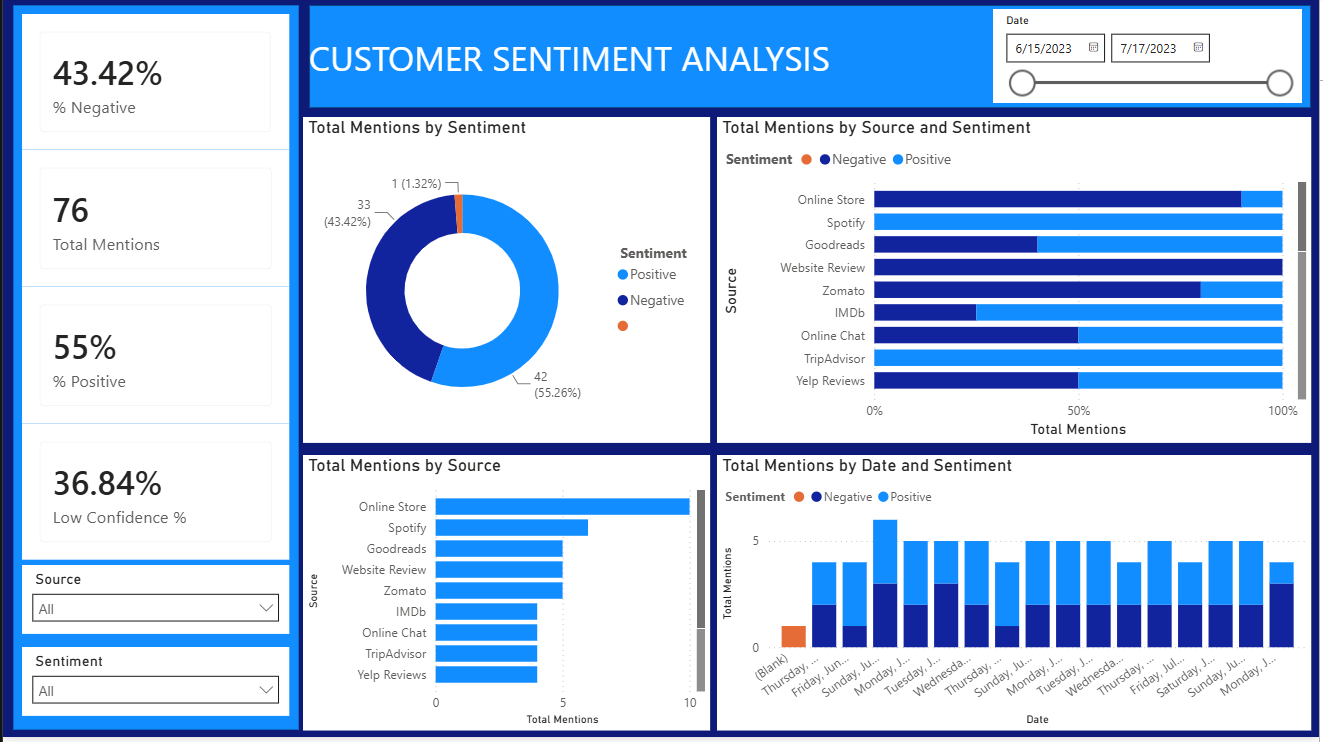

Layout of this report page (visuals, bound fields, positions):
{"tool":"powerbi","page":{"name":"Page 1","canvas":[1280,720],"ordinal":0},"visuals":[{"type":"shape","box":[9.7,7.8,278.2,705.2],"z":0},{"type":"shape","title":"CUSTOMER SENTIMENT ANALYSIS","box":[297.6,7.8,974.6,100.2],"z":1},{"type":"cardVisual","fields":{"Data":["measure.% Negative"]},"box":[18.5,16.5,259.7,132.3],"z":2},{"type":"cardVisual","fields":{"Data":["measure.Total Mentions"]},"box":[18,149,260,133],"z":3},{"type":"cardVisual","fields":{"Data":["measure.% Positive"]},"box":[18,282,260,133],"z":4},{"type":"cardVisual","fields":{"Data":["measure.Low Confidence %"]},"box":[18,415,260,132],"z":5},{"type":"donutChart","fields":{"Category":["sentiment-analysis. Sentiment"],"Y":["measure.Total Mentions"]},"box":[292,117,396,317],"z":6},{"type":"hundredPercentStackedBarChart","fields":{"Category":["sentiment-analysis. Source"],"Y":["measure.Total Mentions"],"Series":["sentiment-analysis. Sentiment"]},"box":[694,117,578,317],"z":7},{"type":"columnChart","fields":{"Y":["measure.Total Mentions"],"Series":["sentiment-analysis. Sentiment"],"Category":["sentiment-analysis.Date"]},"box":[694,445,578,268],"z":8},{"type":"clusteredBarChart","fields":{"Category":["sentiment-analysis. Source"],"Y":["measure.Total Mentions"]},"box":[292,445,396,268],"z":9},{"type":"slicer","fields":{"Values":["sentiment-analysis.Date"]},"box":[963,12,300,91],"z":10},{"type":"slicer","fields":{"Values":["sentiment-analysis. Source"]},"box":[18,552,260,67],"z":11},{"type":"slicer","fields":{"Values":["sentiment-analysis. Sentiment"]},"box":[18,632,260,67],"z":12}]}

Visuals, with their boxes in screenshot pixels (x1, y1, x2, y2), scaled from the page's 1280x720 canvas onto the 1323x742 screenshot:
shape: box(10, 8, 298, 735)
"CUSTOMER SENTIMENT ANALYSIS" shape: box(308, 8, 1315, 111)
cardVisual - measure.% Negative: box(19, 17, 288, 153)
cardVisual - measure.Total Mentions: box(19, 154, 287, 291)
cardVisual - measure.% Positive: box(19, 291, 287, 428)
cardVisual - measure.Low Confidence %: box(19, 428, 287, 564)
donutChart - sentiment-analysis. Sentiment x measure.Total Mentions: box(302, 121, 711, 447)
hundredPercentStackedBarChart - sentiment-analysis. Source x measure.Total Mentions: box(717, 121, 1315, 447)
columnChart - measure.Total Mentions x sentiment-analysis. Sentiment: box(717, 459, 1315, 735)
clusteredBarChart - sentiment-analysis. Source x measure.Total Mentions: box(302, 459, 711, 735)
slicer - sentiment-analysis.Date: box(995, 12, 1305, 106)
slicer - sentiment-analysis. Source: box(19, 569, 287, 638)
slicer - sentiment-analysis. Sentiment: box(19, 651, 287, 720)
